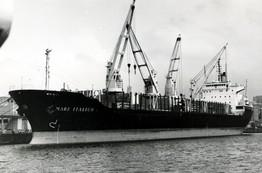Cargoship: (4, 1, 260, 153)
